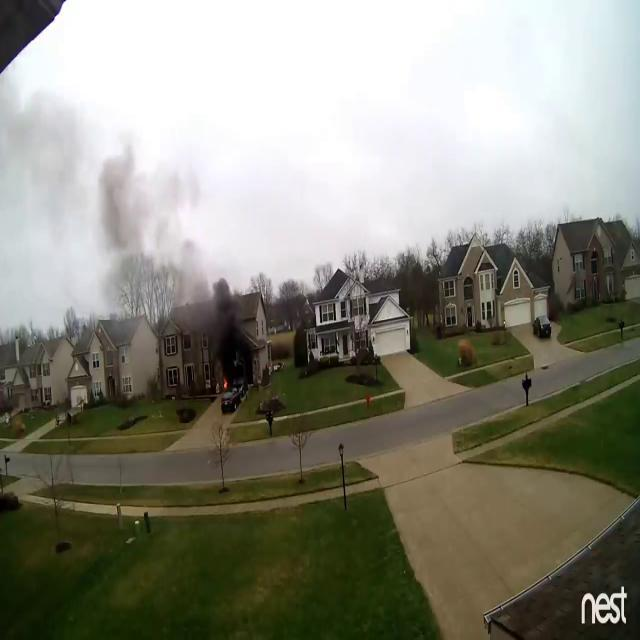Fire: (219, 371, 231, 392)
Smoke: (74, 132, 260, 395)
